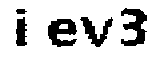3: (118, 5, 150, 49)
e: (45, 17, 77, 51)
i: (12, 3, 30, 52)
v: (79, 15, 114, 48)
